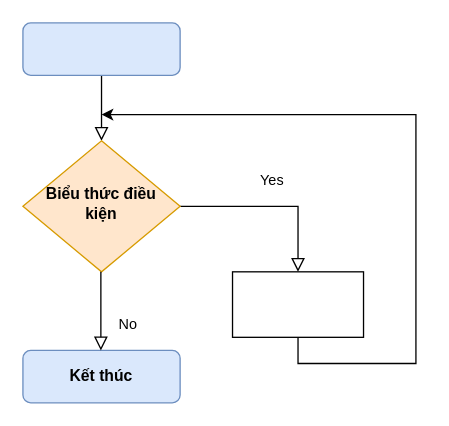
Some shapes in this 449 by 426 pixel diagram are drawn without their labels. Each missing label, with the centre of its shape:
"Bắt đầu" goes at point 101,48.
"Thi hành lệnh" goes at point 297,304.
